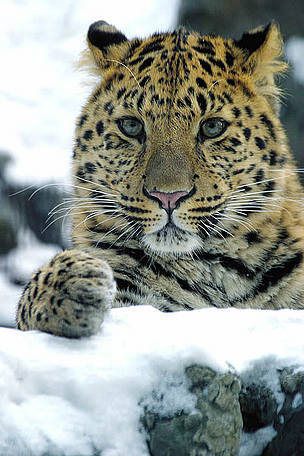amur_leopard: (68, 13, 297, 261)
